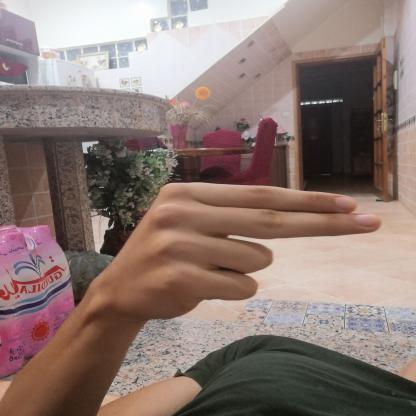AYN: (65, 162, 394, 328)
